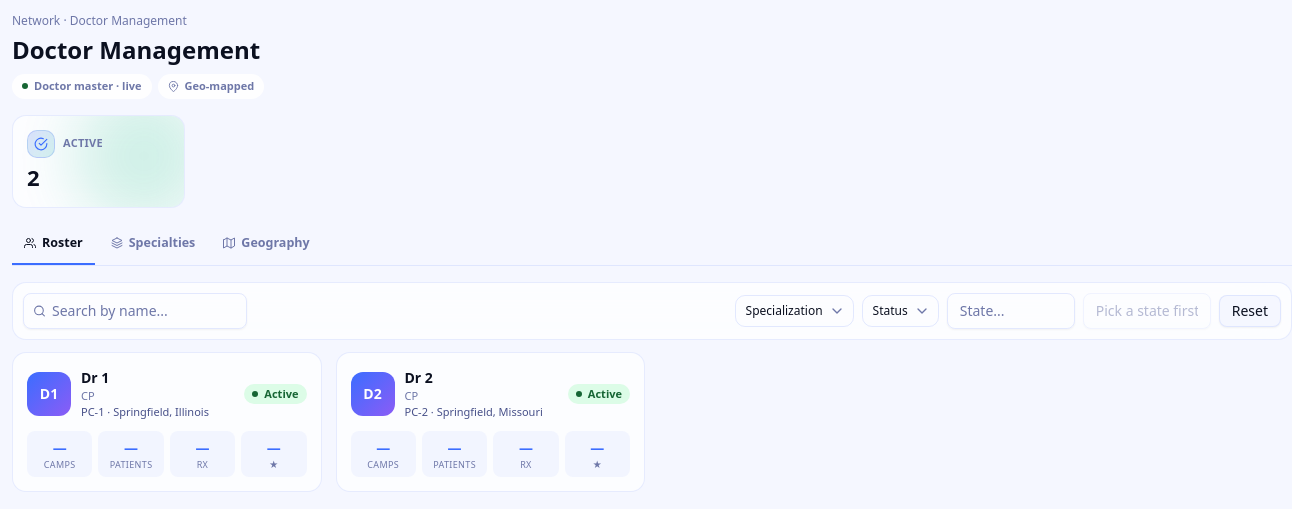
Test: DoctorsPage › two doctors with the same city name in different states remain distinct Geography rows (regression guard)
Click the button "Geography" at (266, 244), box [211, 224, 322, 265]
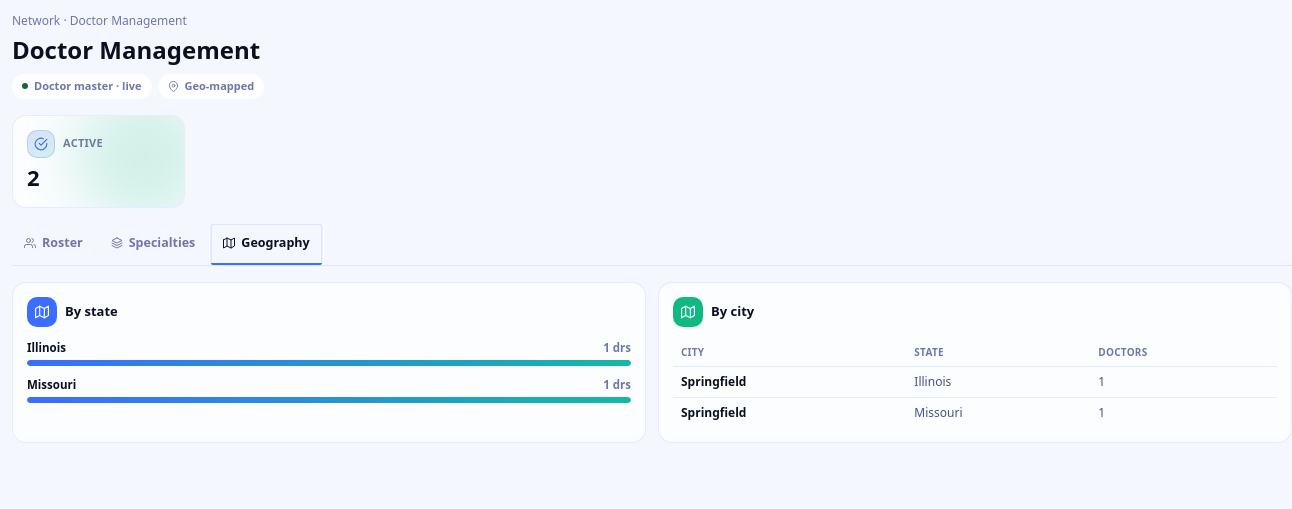
Check: the number of cells "Springfield" is 2, box [673, 366, 906, 397]; [673, 397, 906, 428]
